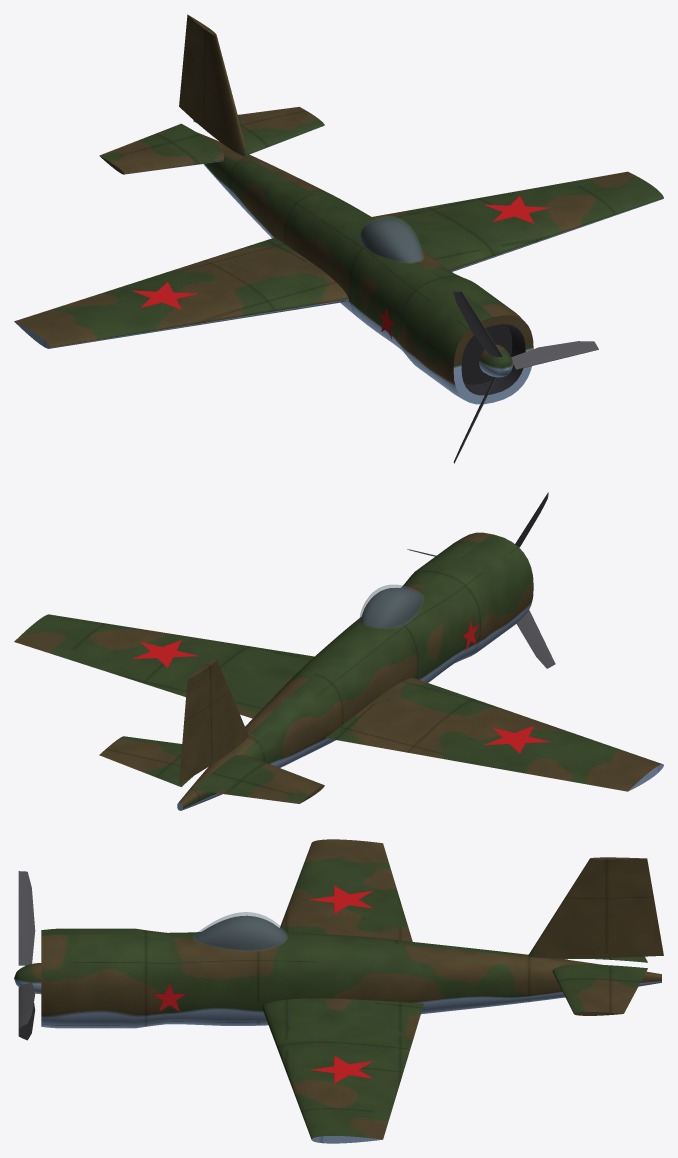
The picture shows the model from 3 angles, top to bottom: view 1: azimuth 30°, elevation 25°; view 2: azimuth 150°, elevation 25°; view 3: azimuth 270°, elevation 25°; orthographic projection.
Parts seen in each view (by area): view 1: Fuselage, Wing0_R, Wing0_L, Fin2, Intake, Htail1_R, Propeller, Htail1_L, Canopy, Cockpit, Decal_Wing_U_R, Decal_Wing_U_L; view 2: Fuselage, Wing0_R, Wing0_L, Fin2, Htail1_R, Htail1_L, Canopy, Cockpit, Propeller, Decal_Wing_U_L, Decal_Wing_U_R; view 3: Fuselage, Wing0_L, Fin2, Wing0_R, Htail1_L, Propeller, Canopy, Cockpit, Decal_Wing_U_L, Decal_Wing_U_R.
Part boxes in pixels (<box>): Fuselage: <box>197,132,522,401</box>; Wing0_R: <box>14,237,348,348</box>; Wing0_L: <box>372,171,663,271</box>; Fin2: <box>179,14,248,156</box>; Intake: <box>453,315,533,404</box>; Htail1_R: <box>99,123,223,174</box>; Propeller: <box>453,291,598,463</box>; Htail1_L: <box>193,106,324,154</box>; Canopy: <box>359,216,423,263</box>; Cockpit: <box>360,219,422,262</box>; Decal_Wing_U_R: <box>131,281,198,309</box>; Decal_Wing_U_L: <box>484,196,550,223</box>; Fuselage: <box>177,532,533,810</box>; Wing0_R: <box>326,678,663,791</box>; Wing0_L: <box>14,614,314,718</box>; Fin2: <box>179,659,248,784</box>; Htail1_R: <box>193,754,324,803</box>; Htail1_L: <box>99,736,193,786</box>; Canopy: <box>359,585,423,628</box>; Cockpit: <box>360,588,422,627</box>; Propeller: <box>407,492,555,668</box>; Decal_Wing_U_L: <box>131,640,198,667</box>; Decal_Wing_U_R: <box>484,726,550,753</box>; Fuselage: <box>41,928,661,1028</box>; Wing0_L: <box>262,998,423,1143</box>; Fin2: <box>528,857,663,958</box>; Wing0_R: <box>280,839,412,941</box>; Htail1_L: <box>552,964,647,1015</box>; Propeller: <box>14,871,41,1040</box>; Canopy: <box>193,912,287,951</box>; Cockpit: <box>195,915,286,950</box>; Decal_Wing_U_L: <box>309,1055,373,1083</box>; Decal_Wing_U_R: <box>310,885,373,913</box>.
Size of the model in its own units: 9.8 by 3.15 by 9.08.
Materials: 6 (2 with a texture image).
